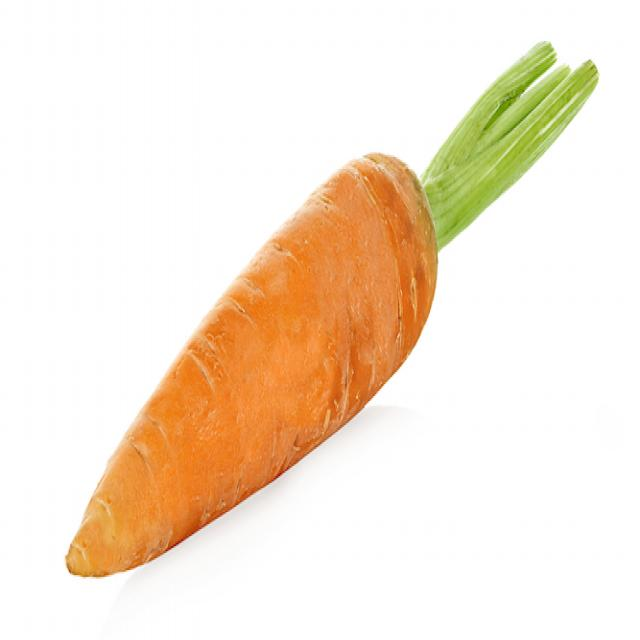Carrot: (65, 42, 602, 591)
